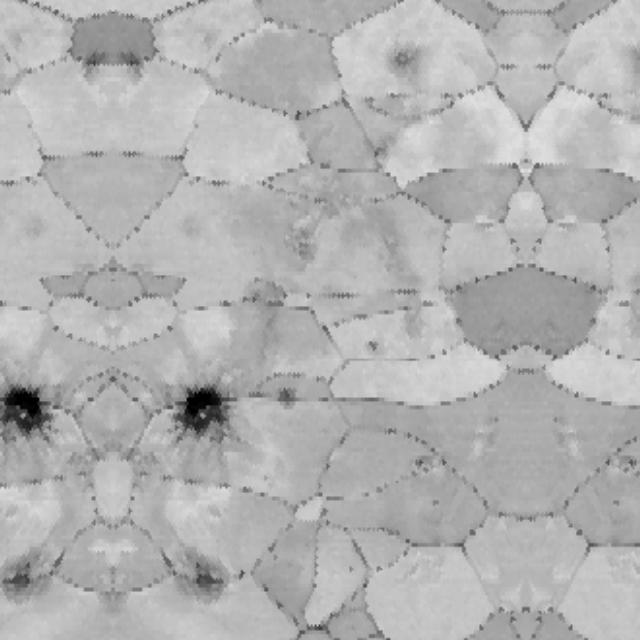good_void: (173, 377, 243, 443), (0, 377, 55, 443), (182, 554, 236, 604), (379, 39, 432, 88), (280, 223, 326, 274), (0, 554, 46, 604), (248, 273, 294, 314), (117, 46, 149, 84), (79, 46, 111, 84), (405, 452, 440, 481), (622, 39, 640, 86), (614, 452, 640, 480), (277, 385, 300, 409), (364, 333, 384, 358), (238, 566, 248, 584), (430, 495, 442, 509), (612, 495, 624, 509), (348, 561, 360, 574)
